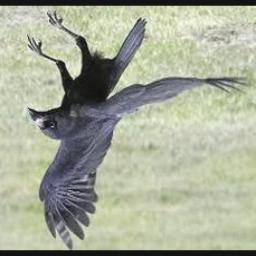Crow: (27, 12, 247, 250)
